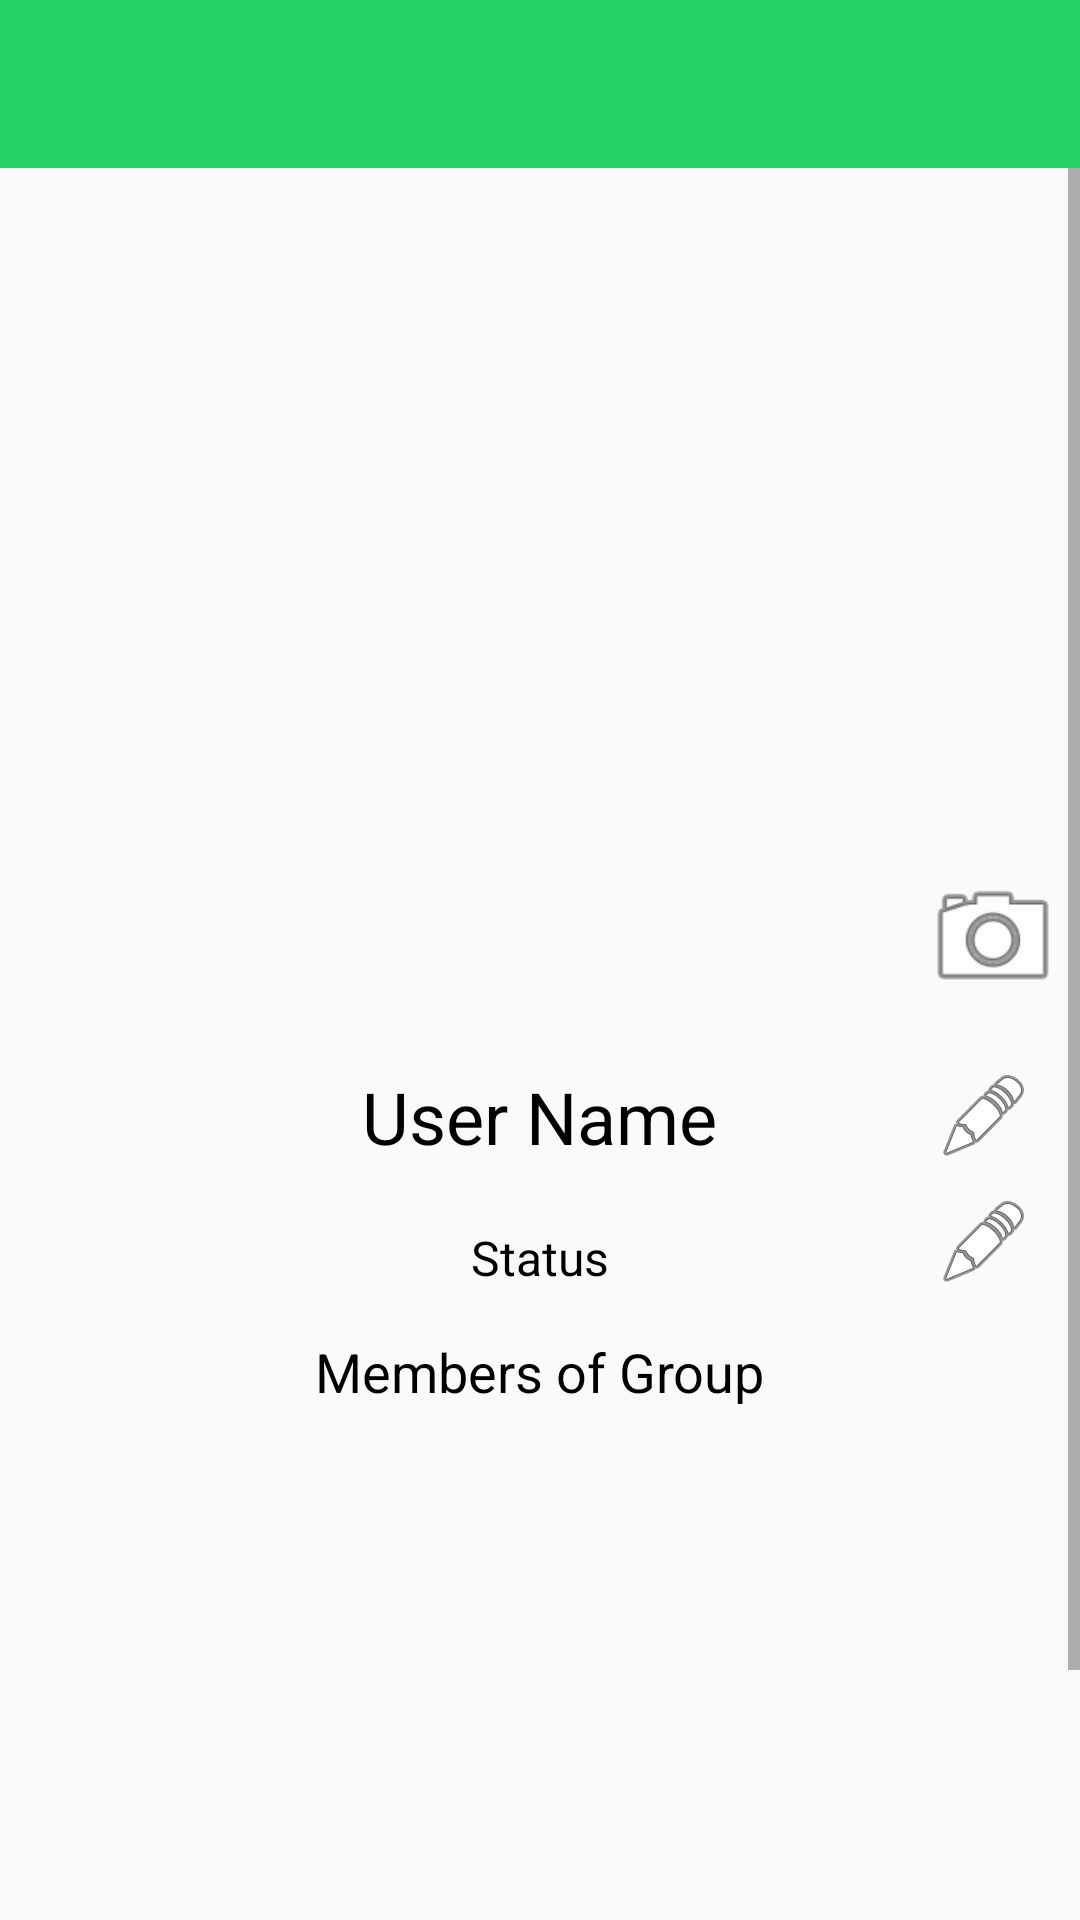

Where icons sit on this 1080w x 1920h app screen, as (x1, y1, x2, y2):
camera: (937, 891, 1049, 980)
edit: (943, 1075, 1024, 1156), (943, 1201, 1024, 1282)
